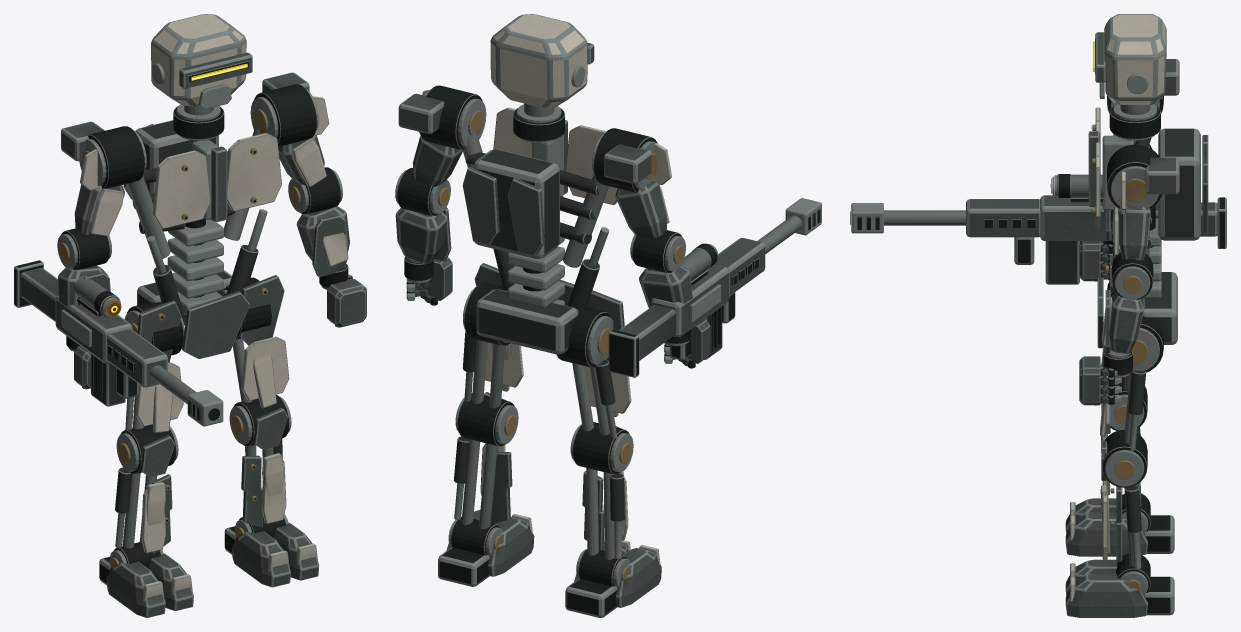
File: ranged-t2-sentinel.glb
3 renders of one model, left to right at view 1: azimuth 30°, elevation 25°; view 2: azimuth 150°, elevation 25°; view 3: azimuth 270°, elevation 25°, orthographic.
Parts seen in each view (by area): view 1: pelvis__metal, chest__clay, head__clay, chest__metal, weaponR__metal, pelvis__clay, weaponR__clay, ankleR__clay, ankleL__clay, kneeL__clay, shoulderR__clay, kneeR__metal (+17 smaller); view 2: pelvis__metal, chest__metal, chest__clay, head__clay, weaponR__metal, kneeL__metal, kneeR__metal, weaponR__clay, shoulderR__clay, shoulderL__clay, ankleL__metal, ankleR__metal (+18 smaller); view 3: chest__metal, weaponR__metal, weaponR__clay, head__clay, pelvis__metal, ankleL__clay, shoulderL__clay, kneeL__metal, ankleR__clay, shoulderL__metal, elbowL__clay, ankleL__metal (+12 smaller).
Boxes of the visible parts, <box> form: pelvis__metal: <box>124,209,272,355</box>; chest__clay: <box>123,124,281,228</box>; head__clay: <box>151,14,252,106</box>; chest__metal: <box>126,104,260,258</box>; weaponR__metal: <box>14,260,223,426</box>; pelvis__clay: <box>137,275,284,362</box>; weaponR__clay: <box>20,268,167,387</box>; ankleR__clay: <box>106,553,193,617</box>; ankleL__clay: <box>232,522,319,587</box>; kneeL__clay: <box>241,407,287,527</box>; shoulderR__clay: <box>61,121,124,236</box>; kneeR__metal: <box>115,425,178,548</box>; pelvis__metal: <box>463,227,613,367</box>; chest__metal: <box>462,104,608,267</box>; chest__clay: <box>462,107,617,255</box>; head__clay: <box>490,14,594,107</box>; weaponR__metal: <box>608,198,821,377</box>; kneeL__metal: <box>454,393,518,529</box>; kneeR__metal: <box>570,422,633,559</box>; weaponR__clay: <box>619,238,765,360</box>; shoulderR__clay: <box>604,143,671,237</box>; shoulderL__clay: <box>398,89,462,186</box>; ankleL__metal: <box>438,517,503,586</box>; ankleR__metal: <box>565,549,630,617</box>; chest__metal: <box>1091,104,1200,256</box>; weaponR__metal: <box>850,174,1226,284</box>; weaponR__clay: <box>966,195,1217,240</box>; head__clay: <box>1095,14,1166,104</box>; pelvis__metal: <box>1104,206,1177,374</box>; ankleL__clay: <box>1065,559,1147,617</box>; shoulderL__clay: <box>1113,157,1179,260</box>; kneeL__metal: <box>1102,429,1147,569</box>; ankleR__clay: <box>1065,498,1147,556</box>; shoulderL__metal: <box>1107,144,1162,259</box>; elbowL__clay: <box>1101,290,1144,355</box>; ankleL__metal: <box>1116,553,1174,615</box>.
Bounding box in the file's own units: 2.33 × 4.27 × 2.65.
12 materials, 10 textured.
